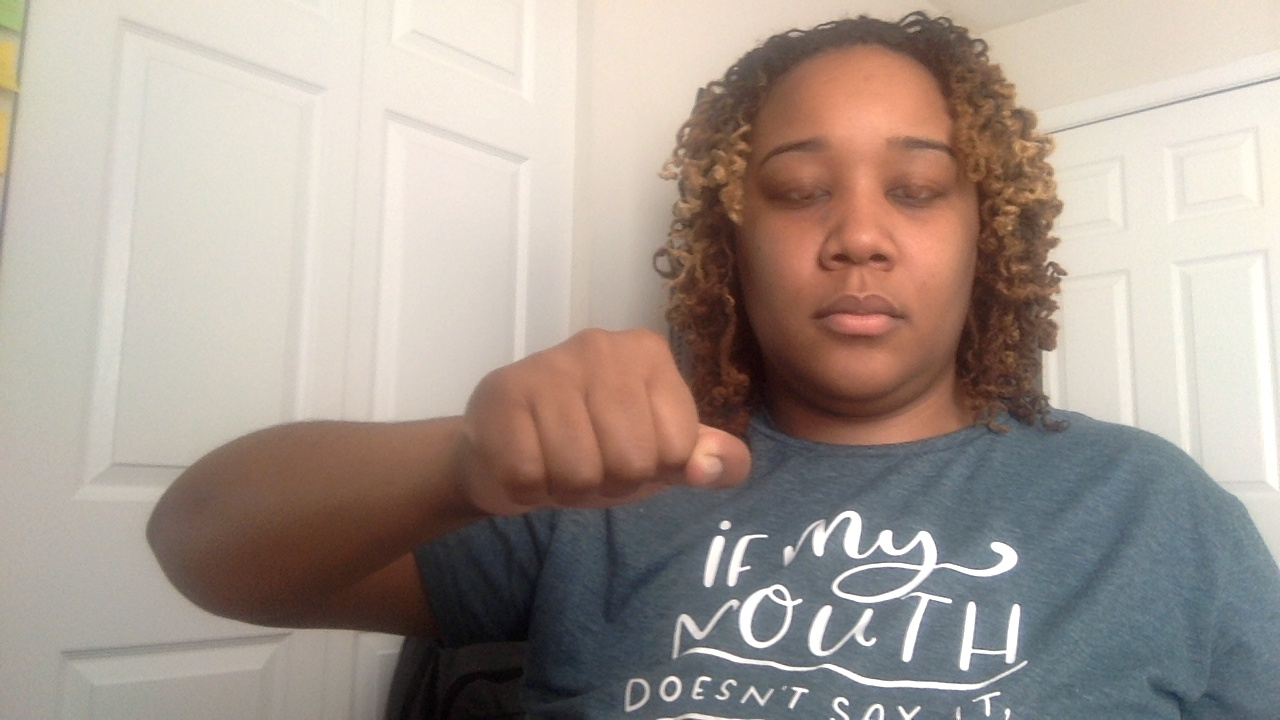yes: (397, 278, 772, 541)
